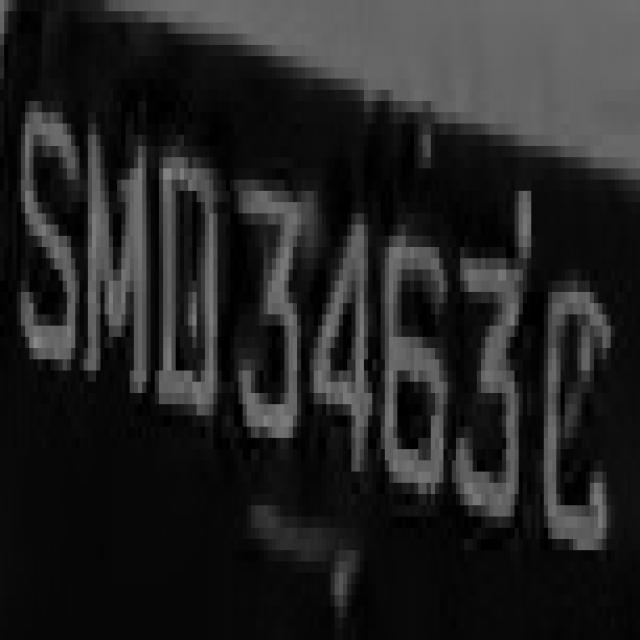3: (456, 214, 531, 562), (234, 123, 310, 460)
4: (301, 180, 381, 494)
6: (381, 179, 452, 516)
C: (536, 236, 619, 584)
D: (138, 123, 226, 438)
M: (84, 90, 146, 415)
S: (17, 45, 88, 404)
